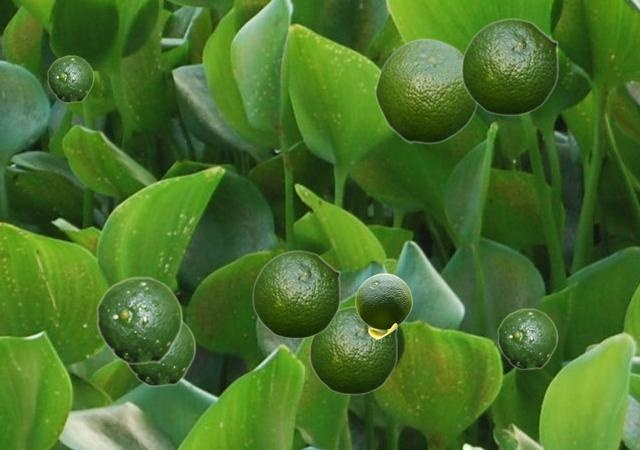calamansi: (374, 37, 477, 143), (461, 18, 558, 115), (309, 306, 397, 394), (252, 250, 340, 338), (96, 276, 182, 364), (126, 320, 195, 386), (497, 308, 557, 369), (355, 273, 411, 338), (47, 55, 93, 102)
